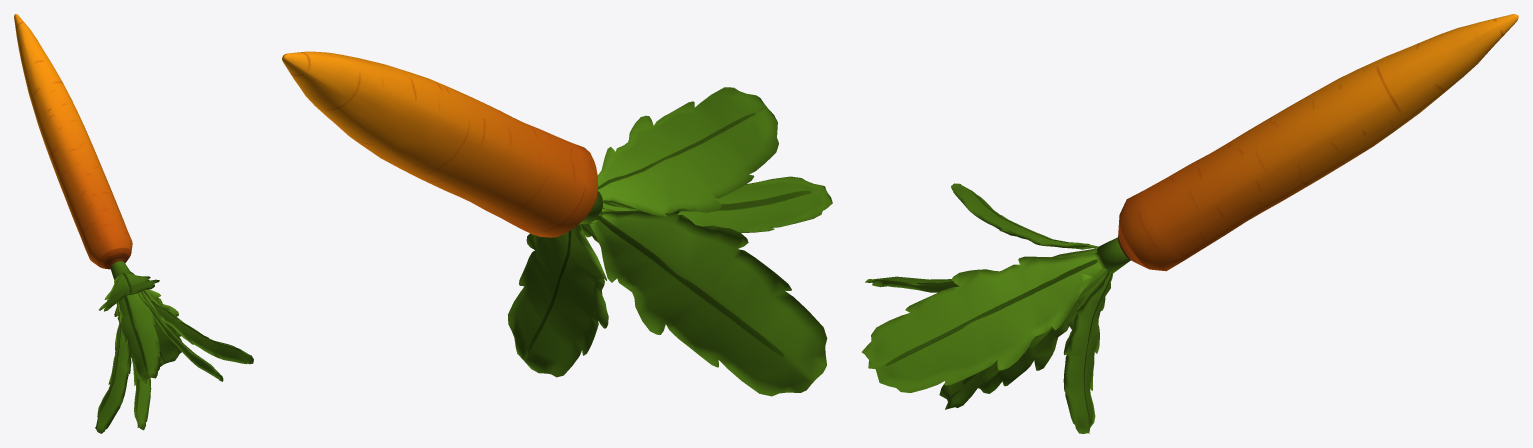
Rendered from carrot_dynamic.obj.
3 views of the same model, side by side, from view 1: azimuth 30°, elevation 25°; view 2: azimuth 150°, elevation 25°; view 3: azimuth 270°, elevation 25° (orthographic). The views are drawn at different scales.
Bounding box in the file's own units: 0.2648 × 0.5221 × 0.7107.
Materials: 3 (3 with a texture image).
